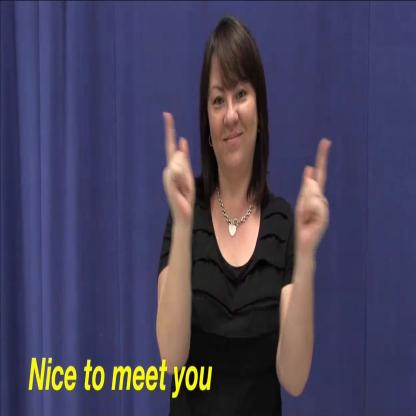NiceToMeetYou: (161, 104, 333, 282)
